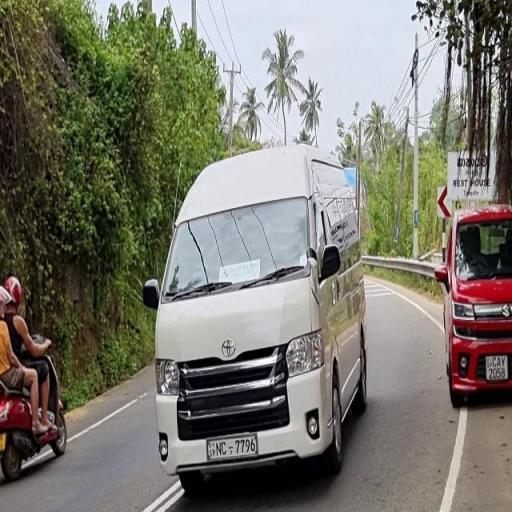double_white_line: (141, 480, 181, 512)
